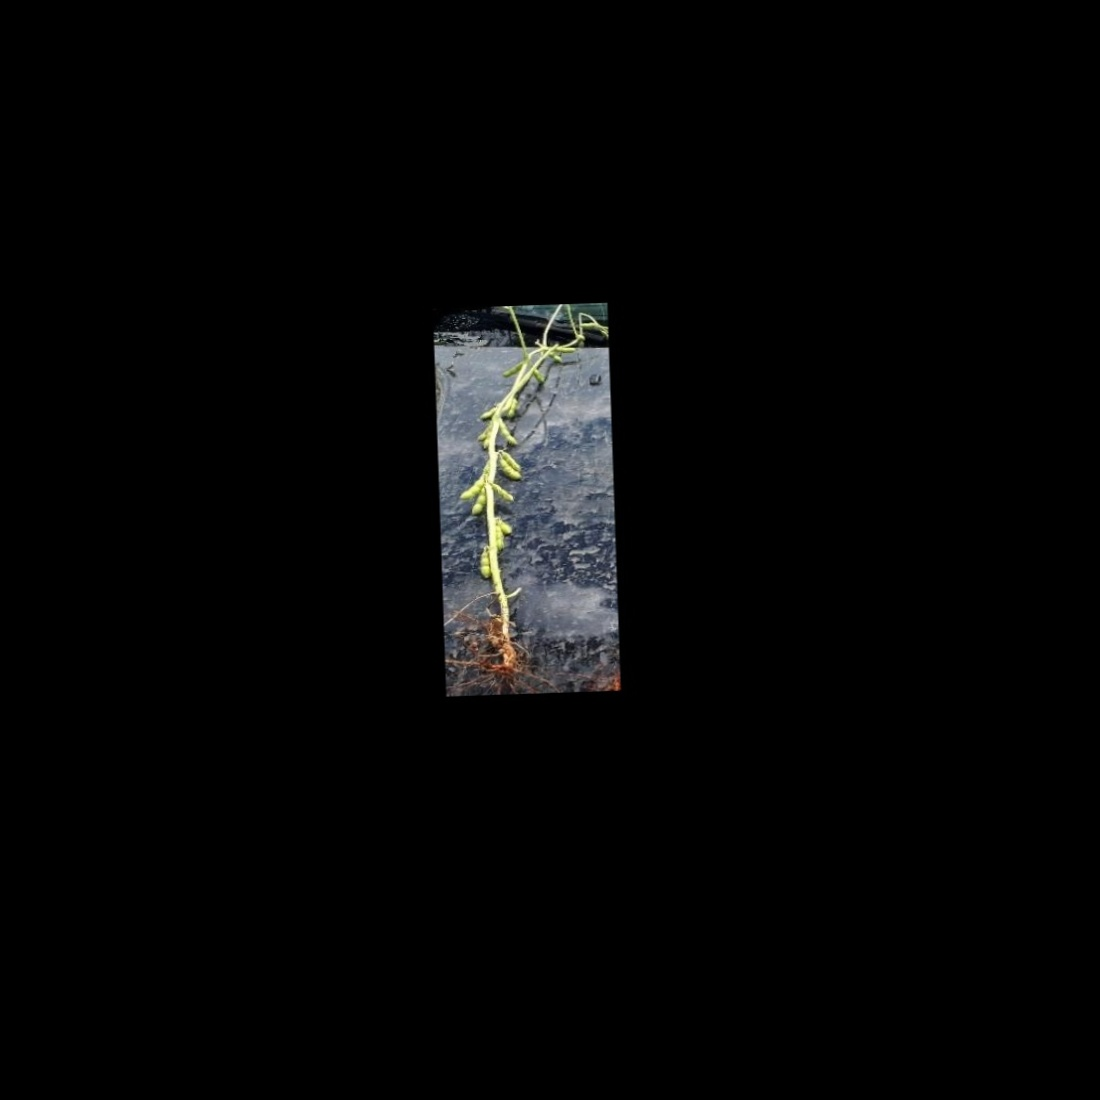pod: (457, 473, 488, 501), (477, 548, 495, 583), (489, 482, 517, 503), (499, 420, 520, 446), (469, 488, 488, 516), (527, 360, 546, 386), (499, 360, 524, 378), (493, 525, 504, 551), (544, 350, 563, 364)
soy: (447, 323, 602, 681)
